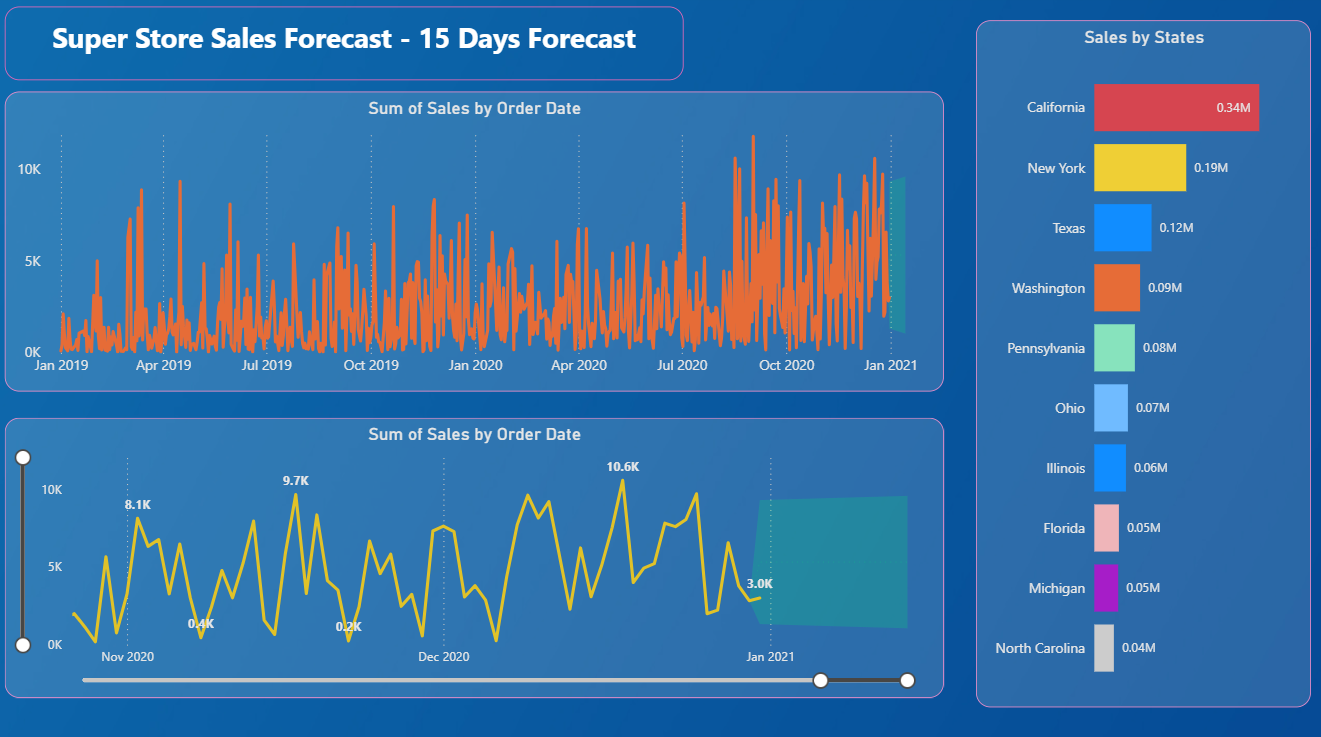

The page's visual inventory and layout, read from the dashboard file:
{"tool":"powerbi","page":{"name":"Page 2","canvas":[1280,720],"ordinal":1},"visuals":[{"type":"lineChart","fields":{"Y":["Sum(SuperStore_Sales_Dataset.Sales)"],"Category":["SuperStore_Sales_Dataset.Order Date"]},"box":[8.4,94.1,906,289.5],"z":0},{"type":"lineChart","fields":{"Y":["Sum(SuperStore_Sales_Dataset.Sales)"],"Category":["SuperStore_Sales_Dataset.Order Date"]},"box":[8.4,409,906,270.2],"z":1000},{"type":"clusteredBarChart","title":"Sales by States","fields":{"Category":["SuperStore_Sales_Dataset.State"],"Y":["Sum(SuperStore_Sales_Dataset.Sales)"]},"box":[945.8,25.3,323.3,663.5],"z":2000},{"type":"textbox","box":[8.4,12.1,655.1,71.2],"z":3000}]}

Visuals, with their boxes in screenshot pixels (x1, y1, x2, y2), scaled from the page's 1280x720 canvas onto the 1321x737 screenshot:
lineChart - Sum(SuperStore_Sales_Dataset.Sales) x SuperStore_Sales_Dataset.Order Date: x1=9 y1=96 x2=944 y2=393
lineChart - Sum(SuperStore_Sales_Dataset.Sales) x SuperStore_Sales_Dataset.Order Date: x1=9 y1=419 x2=944 y2=695
"Sales by States" clusteredBarChart: x1=976 y1=26 x2=1310 y2=705
textbox: x1=9 y1=12 x2=685 y2=85
